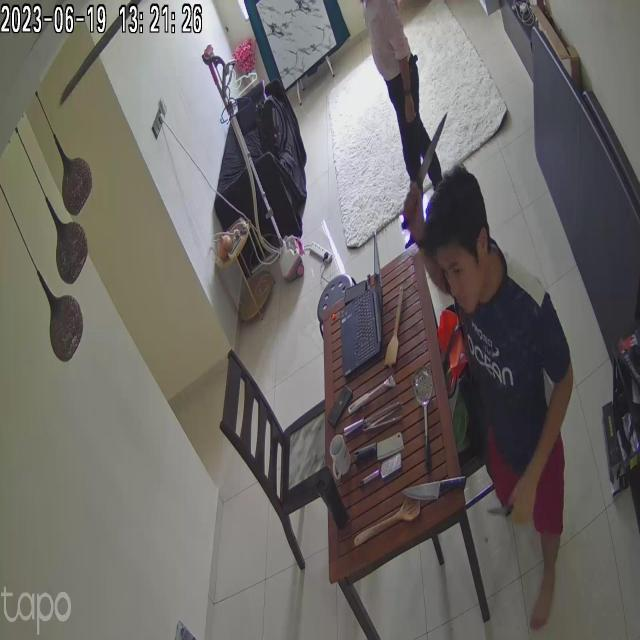Knife: (388, 110, 450, 227), (399, 471, 468, 508)
